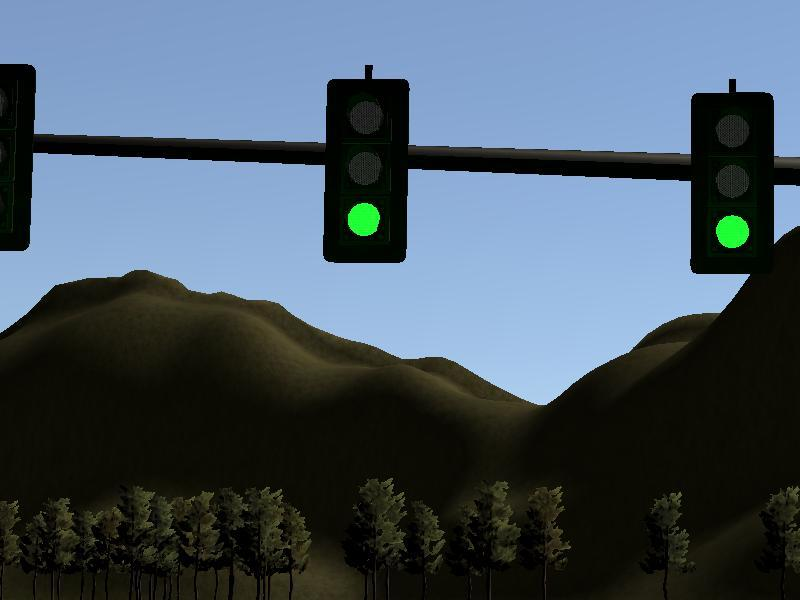Green: (690, 92, 774, 273), (326, 78, 406, 264)
